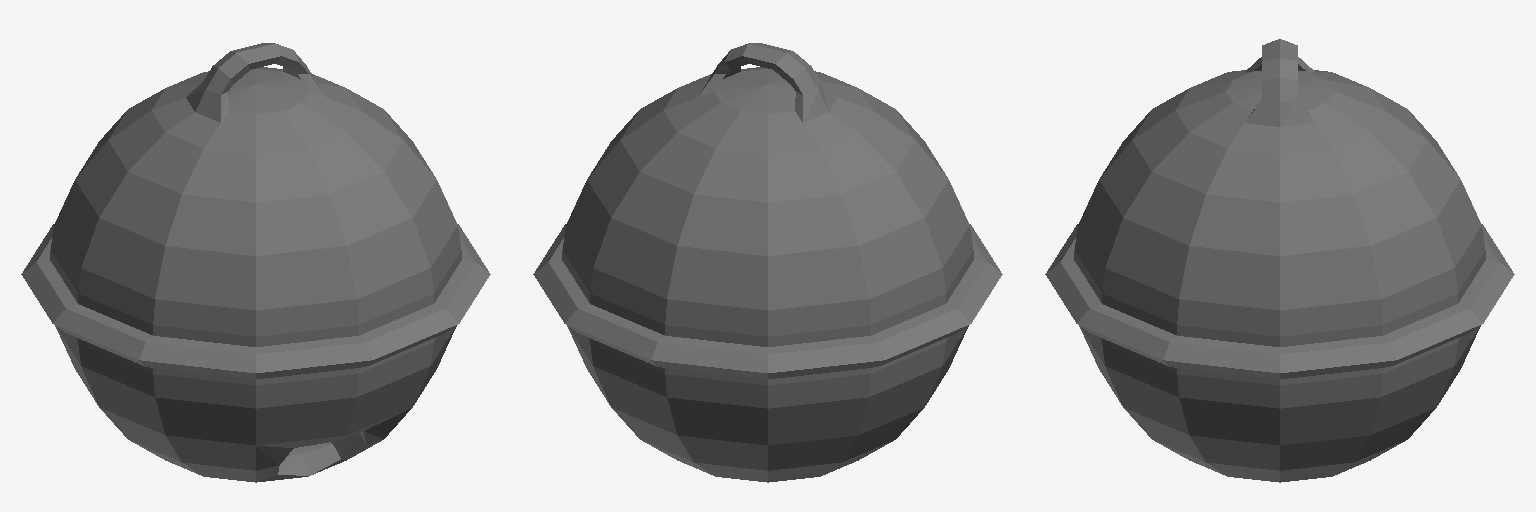
3 renders of one model, left to right at view 1: azimuth 30°, elevation 25°; view 2: azimuth 150°, elevation 25°; view 3: azimuth 270°, elevation 25°, orthographic.
Parts seen in each view (by area): view 1: bell:pSphere17; view 2: bell:pSphere17; view 3: bell:pSphere17.
Boxes of the visible parts, box(x1,y1,x2,y2) form: bell:pSphere17: box(21, 43, 490, 482); bell:pSphere17: box(533, 43, 1002, 482); bell:pSphere17: box(1045, 39, 1514, 482).
Bounding box in the file's own units: 1.39 × 1.35 × 1.39.